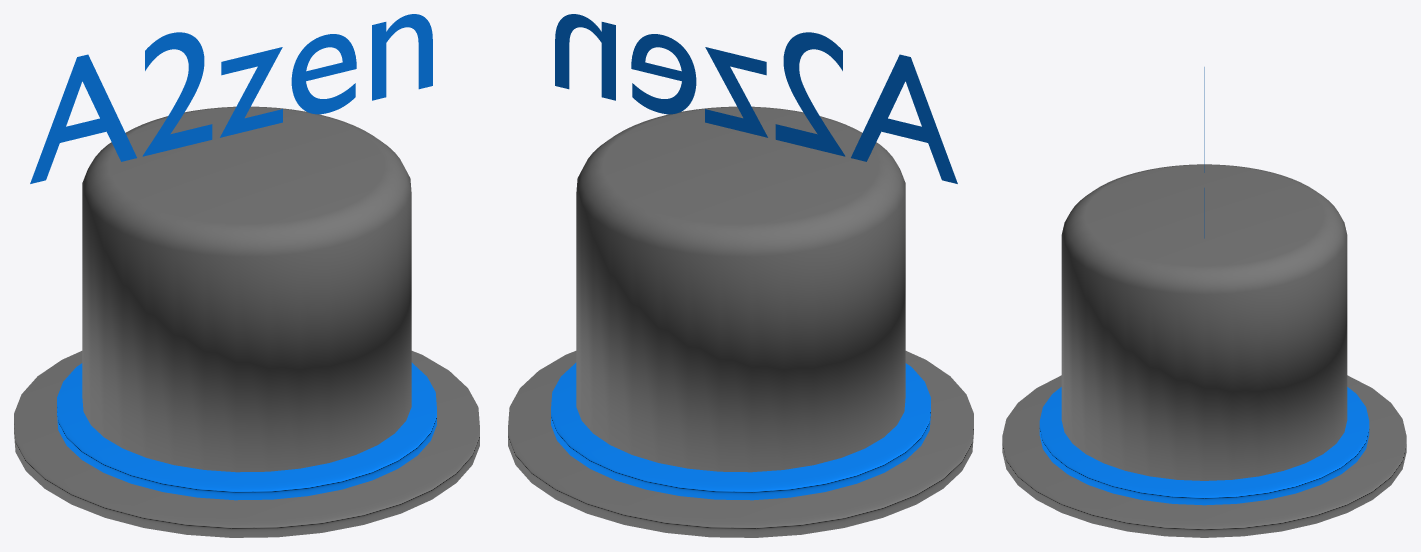
The model's file is A2zen Hat.fbx.
The picture shows the model from 3 angles, left to right: view 1: azimuth 30°, elevation 25°; view 2: azimuth 150°, elevation 25°; view 3: azimuth 270°, elevation 25°; orthographic projection. The views are drawn at different scales.
Parts seen in each view (by area): view 1: Cylinder.002, Text; view 2: Cylinder.002, Text; view 3: Cylinder.002.
Part boxes in pixels (x1,y1,x2,y2): Cylinder.002: (14,106,479,537); Text: (30,14,432,183); Cylinder.002: (508,106,973,537); Text: (555,14,957,183); Cylinder.002: (1002,164,1406,537).
Size of the model in its own units: 260 by 252 by 251.
